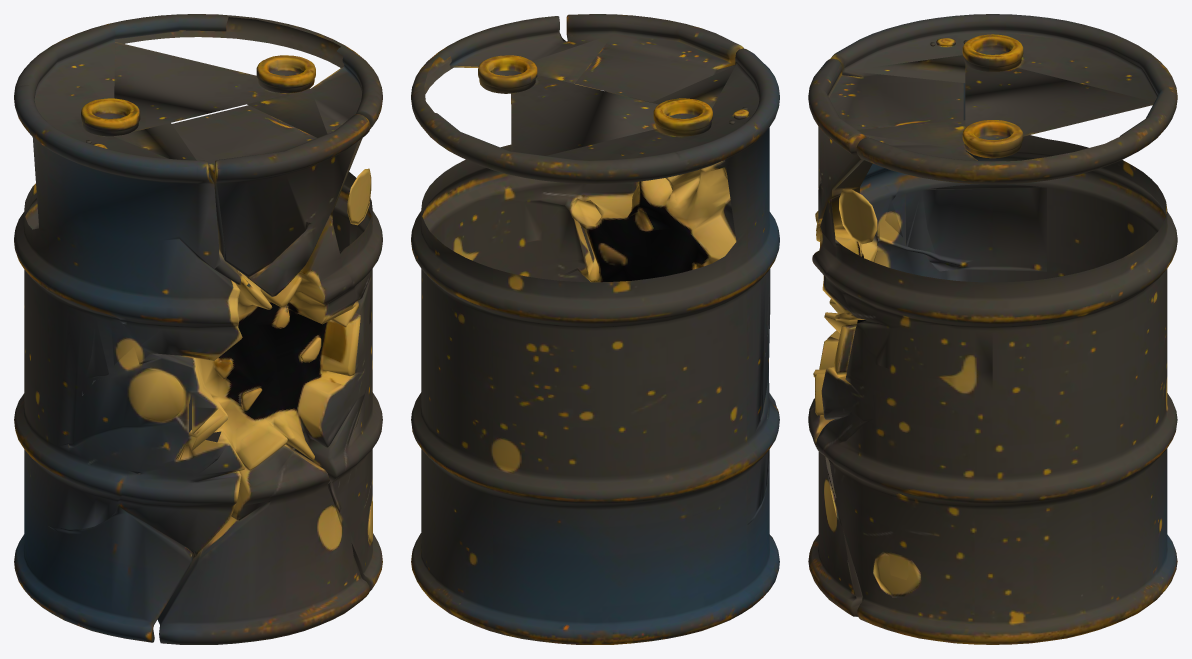
The model's file is smashed_oil_barrel_6a965a03_v2.glb.
3 views of the same model, side by side, from view 1: azimuth 30°, elevation 25°; view 2: azimuth 150°, elevation 25°; view 3: azimuth 270°, elevation 25° (orthographic).
Visible parts, largest first — view 1: material; view 2: material; view 3: material.
Part boxes in pixels (<box>): material: <box>14,14,382,644</box>; material: <box>411,14,779,644</box>; material: <box>808,14,1177,644</box>.
Bounding box in the file's own units: 1.32 × 1.9 × 1.32.
1 material, 1 textured.
